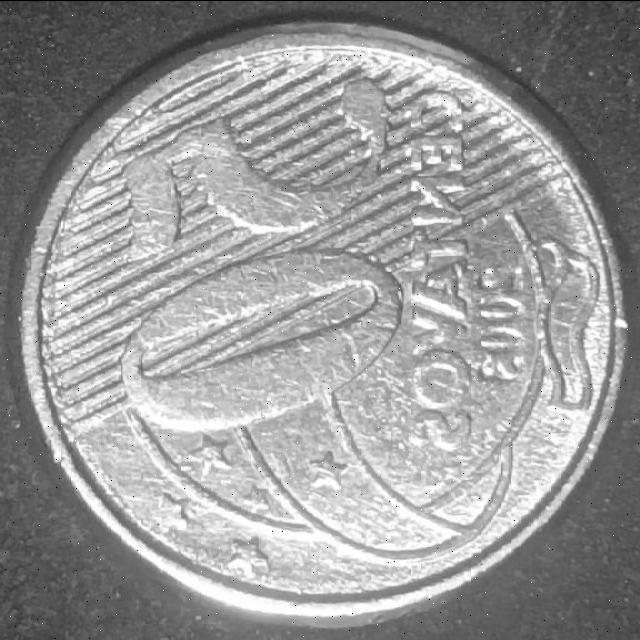50 cent: (11, 36, 610, 614)
